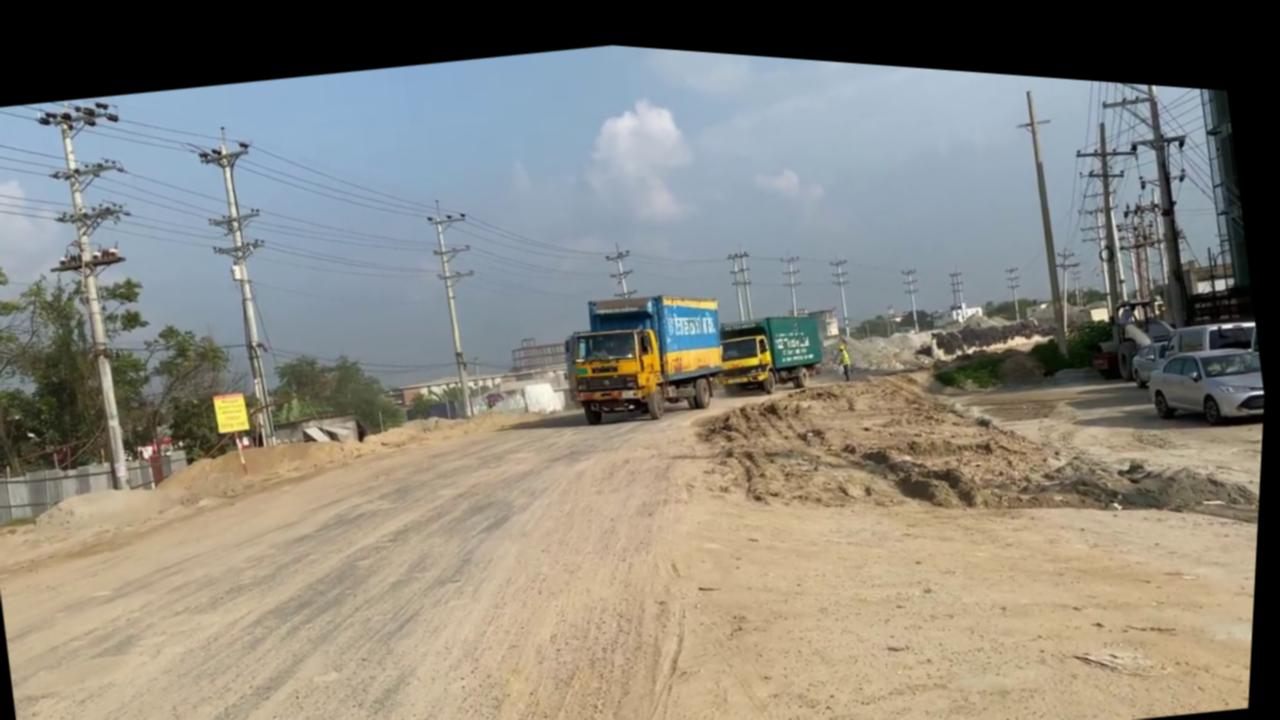Car: (1142, 316, 1270, 420)
Fence: (0, 433, 200, 538)
Muddy road: (738, 311, 1072, 525)
Pole: (17, 90, 184, 496), (177, 115, 306, 449), (1078, 63, 1218, 318), (1000, 69, 1093, 345), (417, 185, 503, 413)
Traffic-light: (214, 384, 255, 431)
Tree: (553, 265, 739, 427), (708, 291, 833, 394), (1083, 270, 1187, 371)
